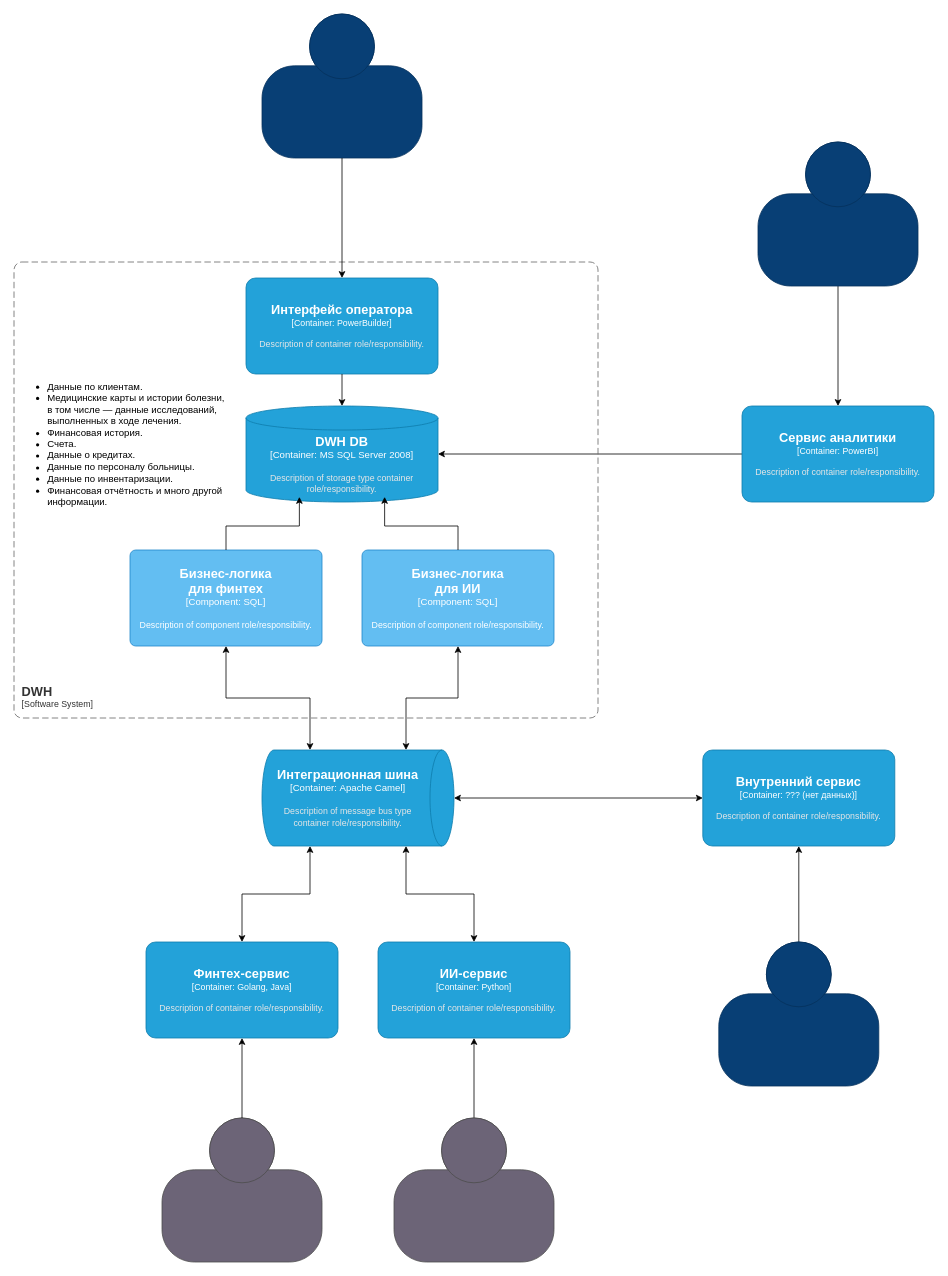
Some shapes in this 948 by 1276 pixel diagram are drawn without their labels. The shapes that lost their labels are listed below. From the top down, each one's centre as x and y in pixels, then its label:
At (341,85): "Оператор [Person] Description of person.".
At (837,213): "Аналитик [Person] Description of person.".
At (798,1013): "Сотрудник компании [Person] Description of person.".
At (241,1189): "Сотрудник банка [Person] Description of external person.".
At (473,1189): "Специалист по ИИ [Person] Description of external person.".
